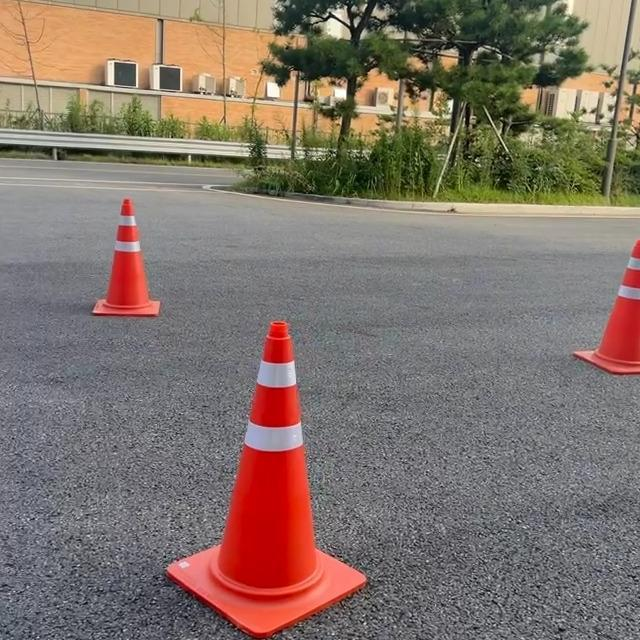fallen_object: (167, 345, 386, 639), (91, 160, 152, 313), (601, 198, 640, 374)
